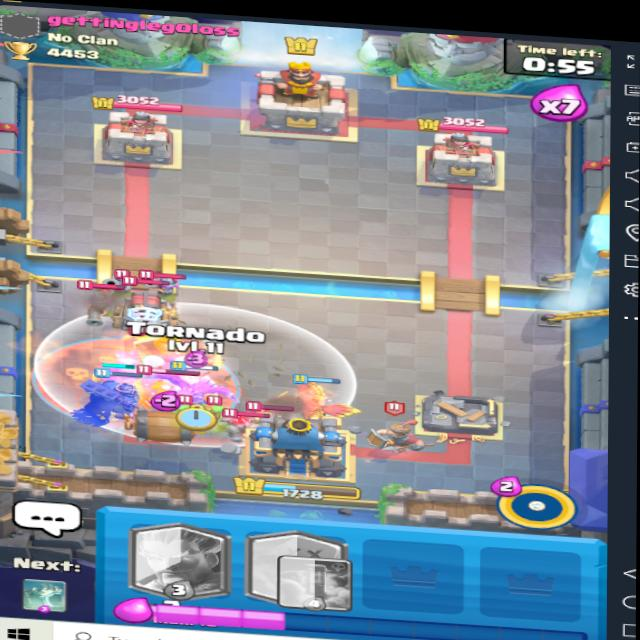electro-giant: (129, 364, 207, 410)
golem: (218, 408, 267, 440)
musketeer: (146, 264, 189, 306), (103, 264, 140, 305), (81, 286, 121, 321)
royal-giant: (125, 328, 224, 376)
royal-recruits: (372, 411, 422, 454)
sparky: (114, 277, 187, 340)
spear-goblin: (203, 399, 229, 420)
